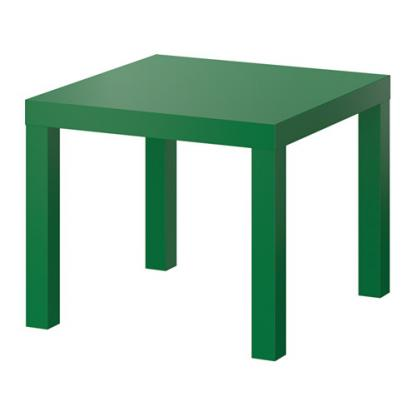Table: (19, 47, 394, 367)
